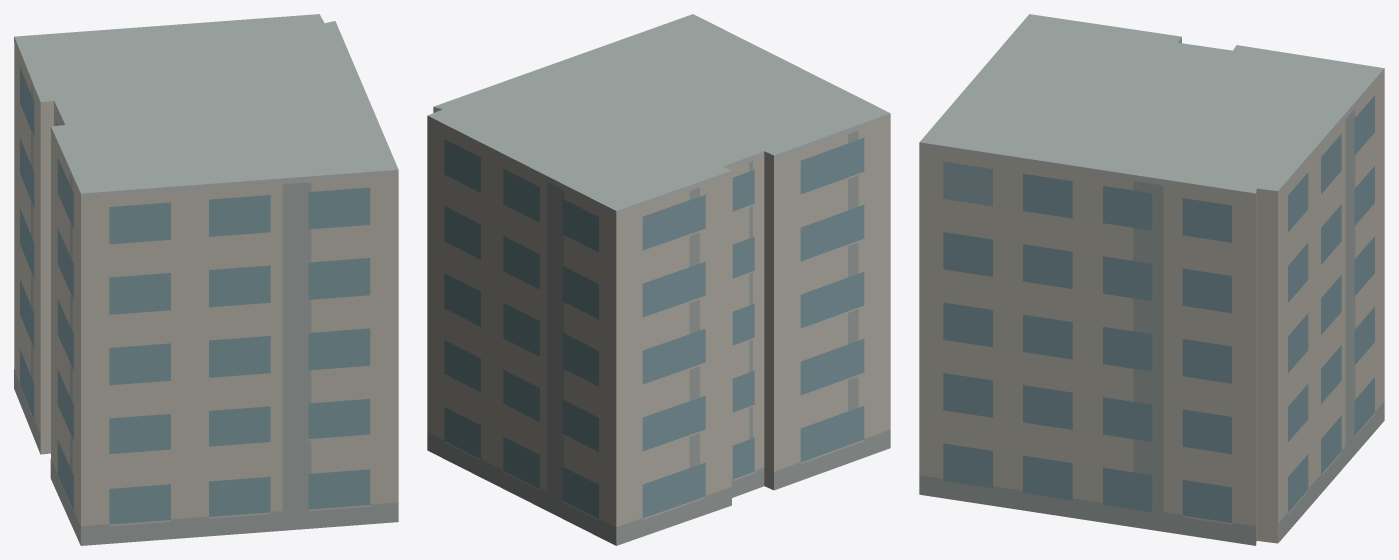
Rendered from survey-upis-32883638.glb.
The picture shows the model from 3 angles, left to right: view 1: azimuth 30°, elevation 25°; view 2: azimuth 150°, elevation 25°; view 3: azimuth 270°, elevation 25°; orthographic projection. The views are drawn at different scales.
Visible parts, largest first — view 1: survey-upis-32883638.tmp; view 2: survey-upis-32883638.tmp; view 3: survey-upis-32883638.tmp.
Boxes of the visible parts, x1=… form: survey-upis-32883638.tmp: x1=14, y1=14, x2=398, y2=545; survey-upis-32883638.tmp: x1=427, y1=14, x2=890, y2=545; survey-upis-32883638.tmp: x1=919, y1=14, x2=1384, y2=545.
Size of the model in its own units: 15.64 by 14.3 by 17.12.
